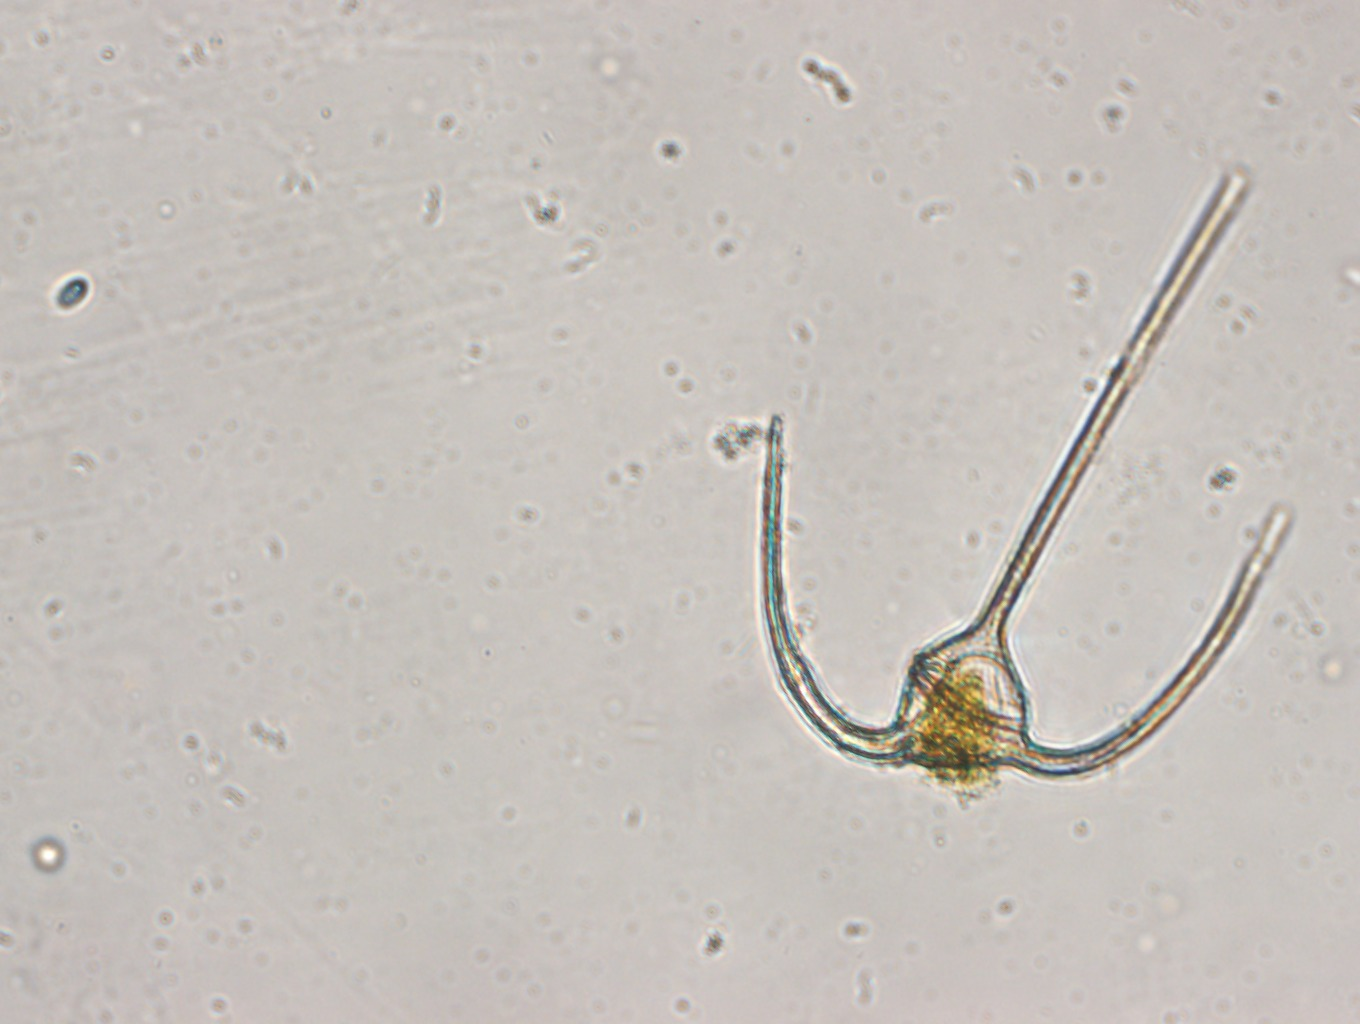ceratium trichoceros: (744, 155, 1295, 801)
